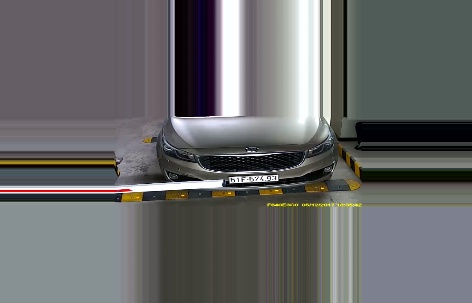plate: (228, 173, 281, 184)
